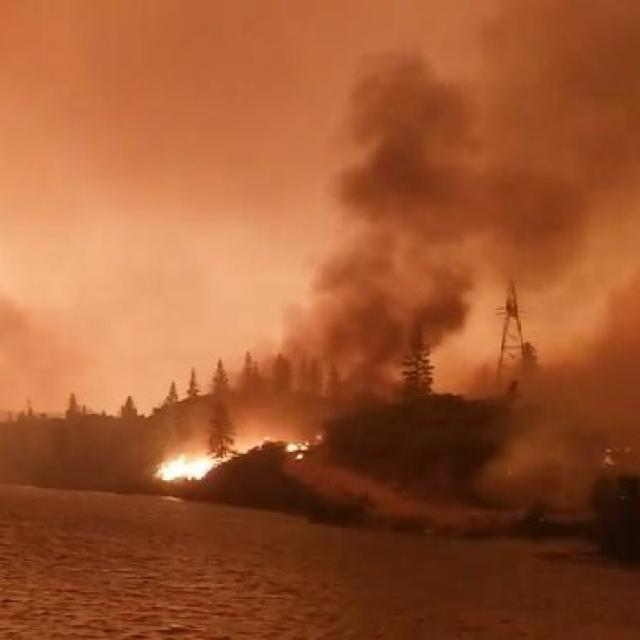Fire: (160, 421, 330, 504)
Smoke: (291, 0, 640, 422)
